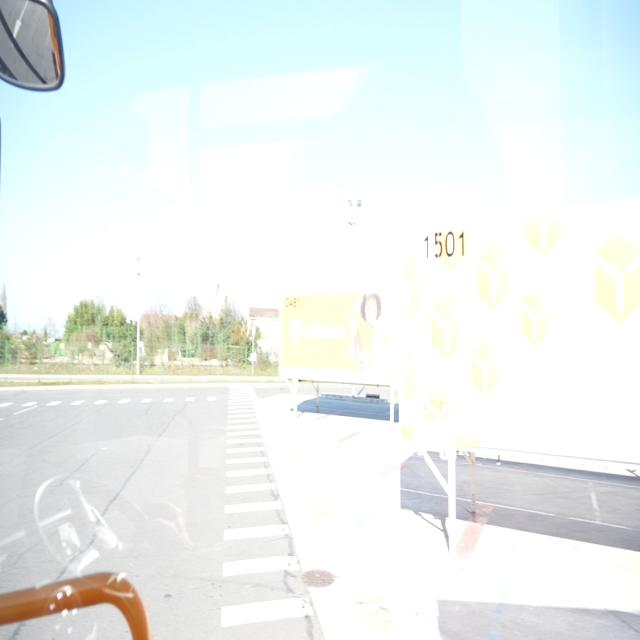Code: (416, 217, 474, 265)
